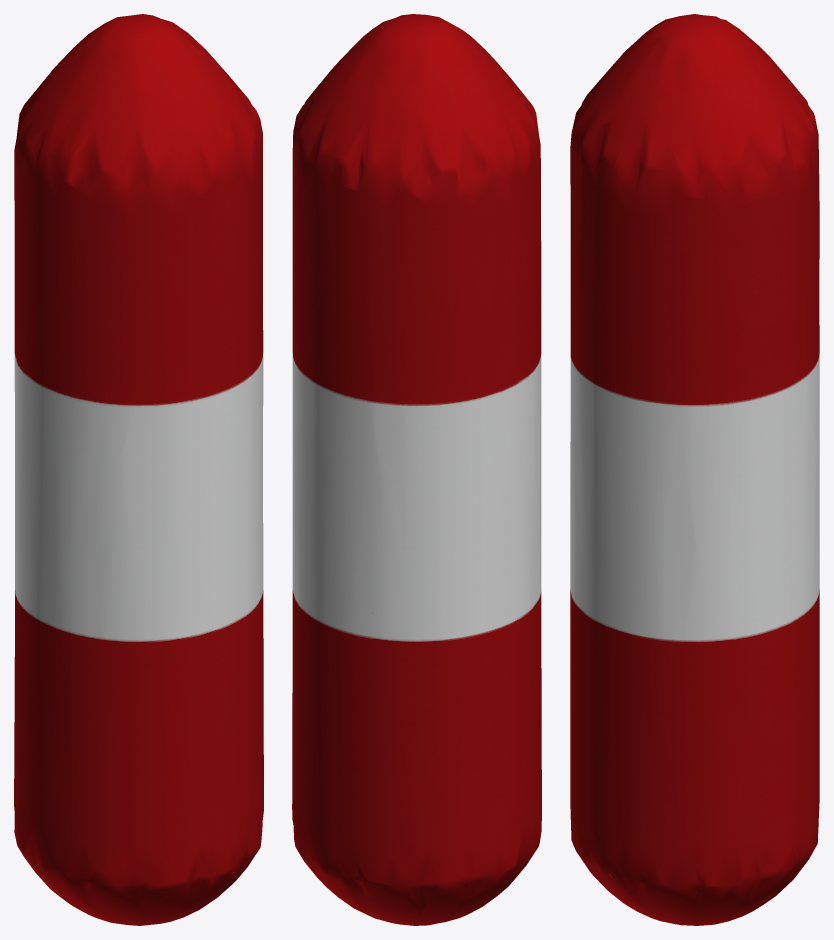
The model's file is race_buoy.glb.
3 views of the same model, side by side, from view 1: azimuth 30°, elevation 25°; view 2: azimuth 150°, elevation 25°; view 3: azimuth 270°, elevation 25° (orthographic).
Parts seen in each view (by area): view 1: race_buoy; view 2: race_buoy; view 3: race_buoy.
Boxes of the visible parts, x1,y1,x2,y2 form: race_buoy: [14, 14, 263, 925]; race_buoy: [292, 14, 541, 925]; race_buoy: [570, 14, 819, 925].
Bounding box in the file's own units: 0.3037 × 1.2 × 0.3039.
Materials: 1 (1 with a texture image).
